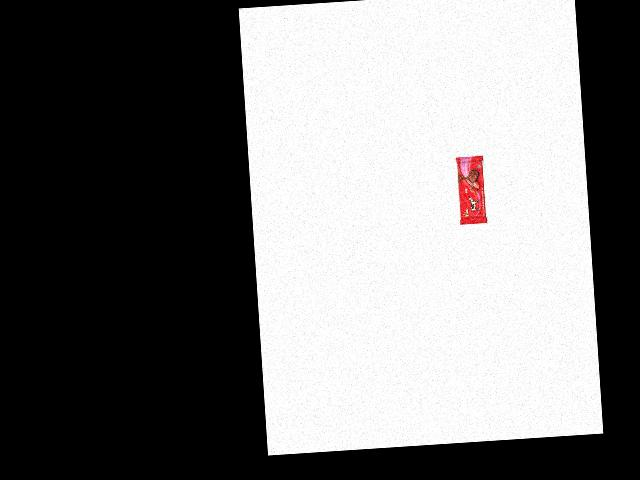chocolate: (456, 154, 492, 230)
